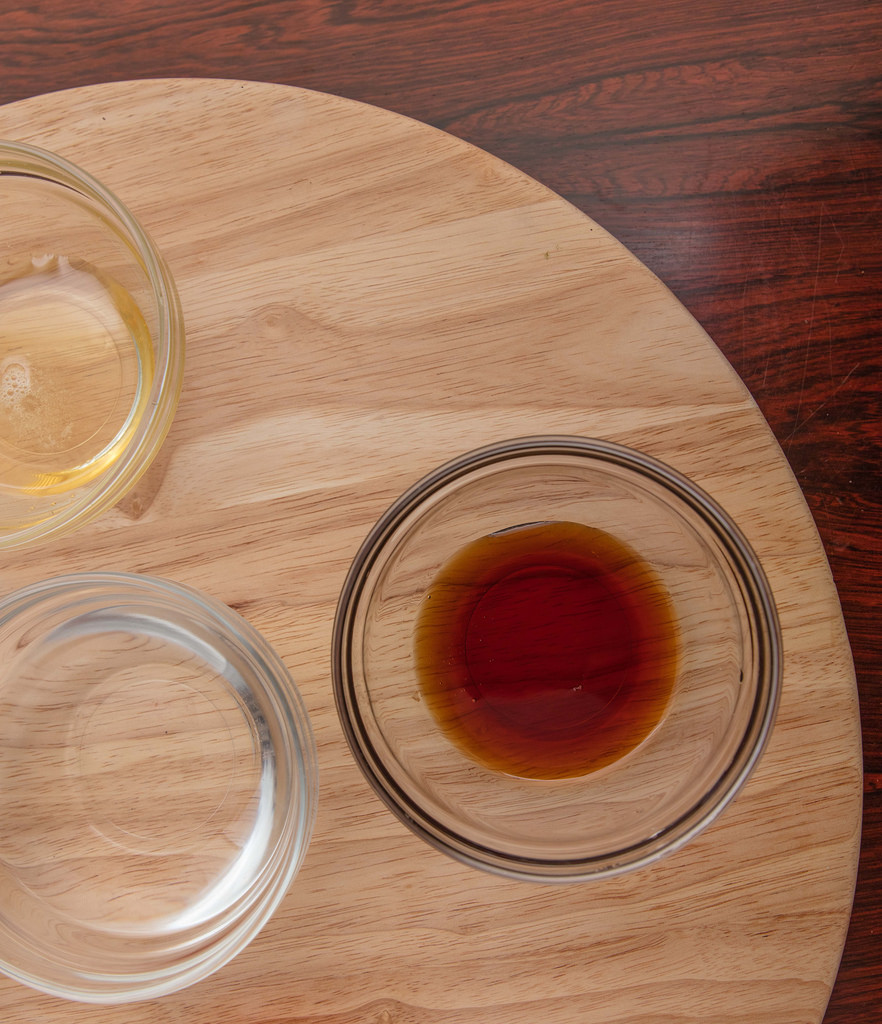glass of water: (34, 170, 165, 516)
